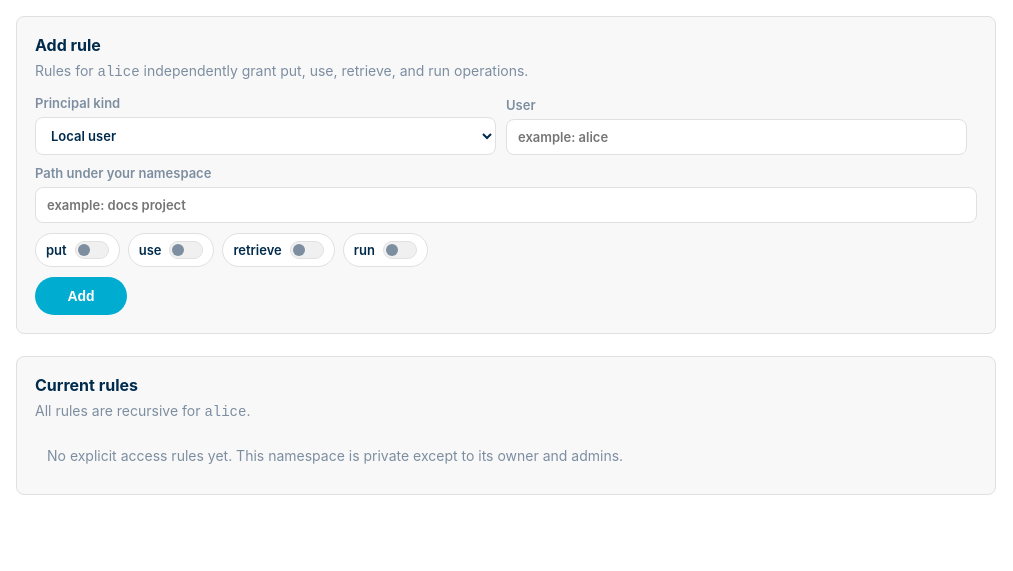
Test: AccessPanel › rejects a malformed retrieve range before submission
Expected: the text "No explicit access rules yet. This namespace is private except to its owner and admins." is shown, [47, 447, 623, 464]
Step 1. Select "Remote user" in the dropdown labelled "Principal kind" → (266, 136), box [35, 117, 496, 155]
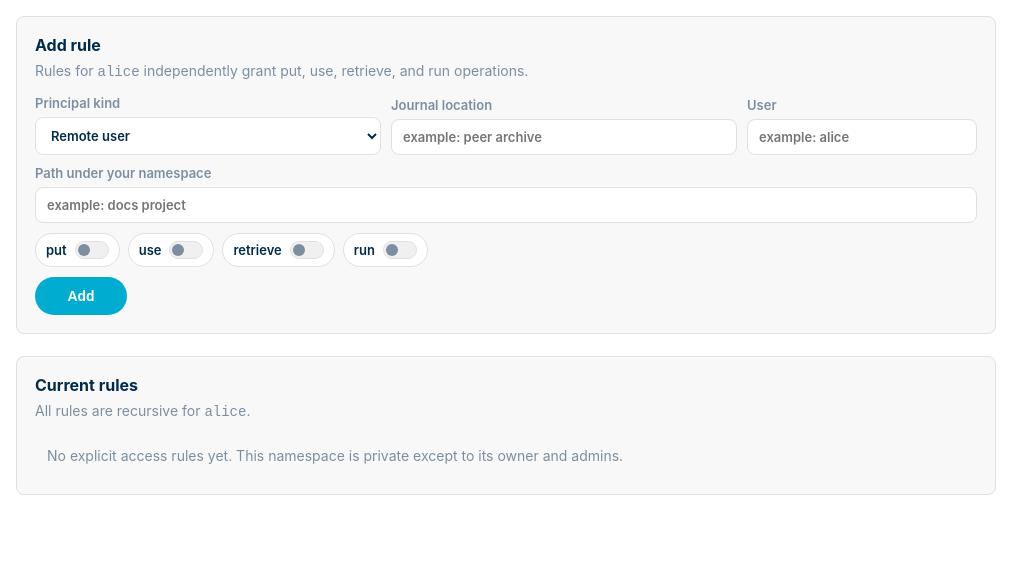
Step 2. Type "peer" into the field labelled "Journal location" → (564, 137), box [391, 119, 737, 155]
Step 3. Type "bob" into the field labelled "User" → (862, 137), box [747, 119, 977, 155]
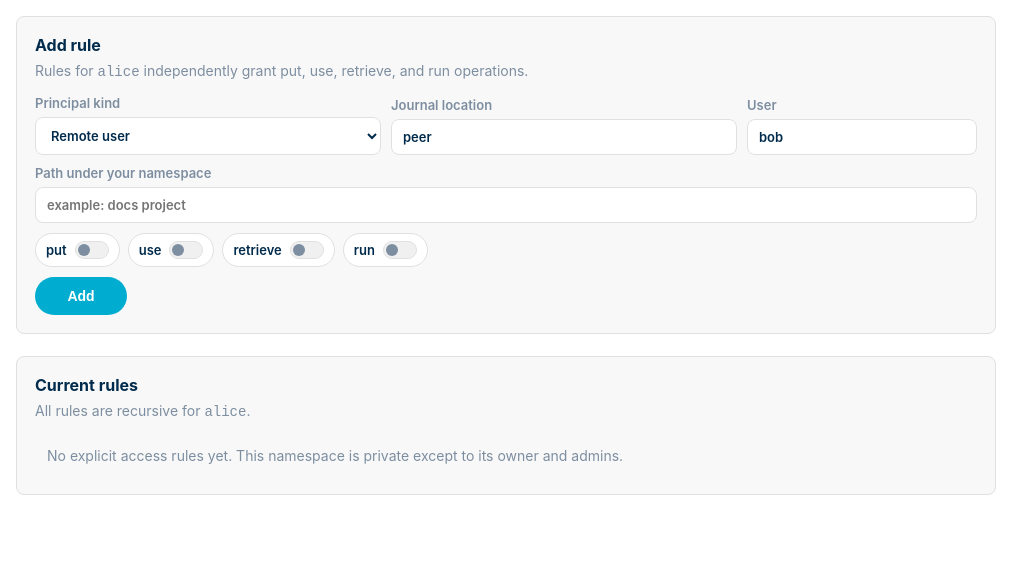
Step 4. Click the checkbox labelled "retrieve" → (279, 250), box [234, 241, 324, 259]
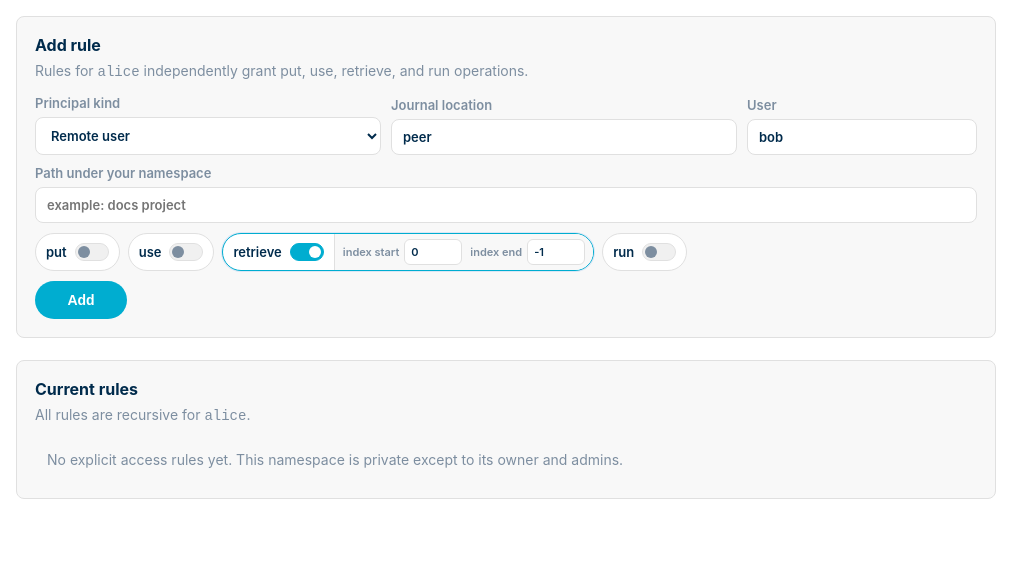
Step 5. Replace the text in the number field labelled "index start" with "-2" → (433, 252), box [404, 239, 462, 265]
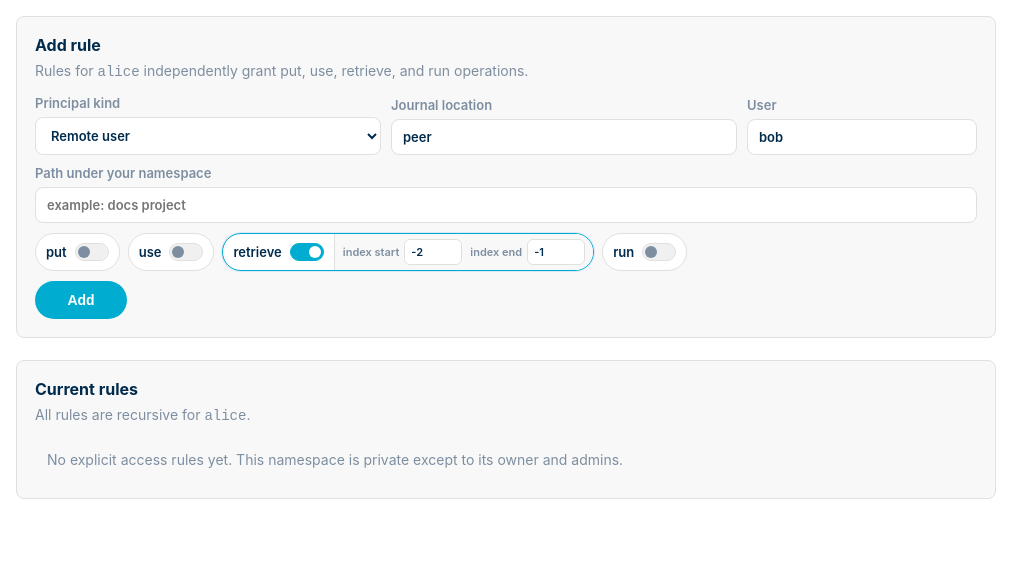
Step 6. Replace the text in the number field labelled "index end" with "1" → (556, 252), box [527, 239, 585, 265]
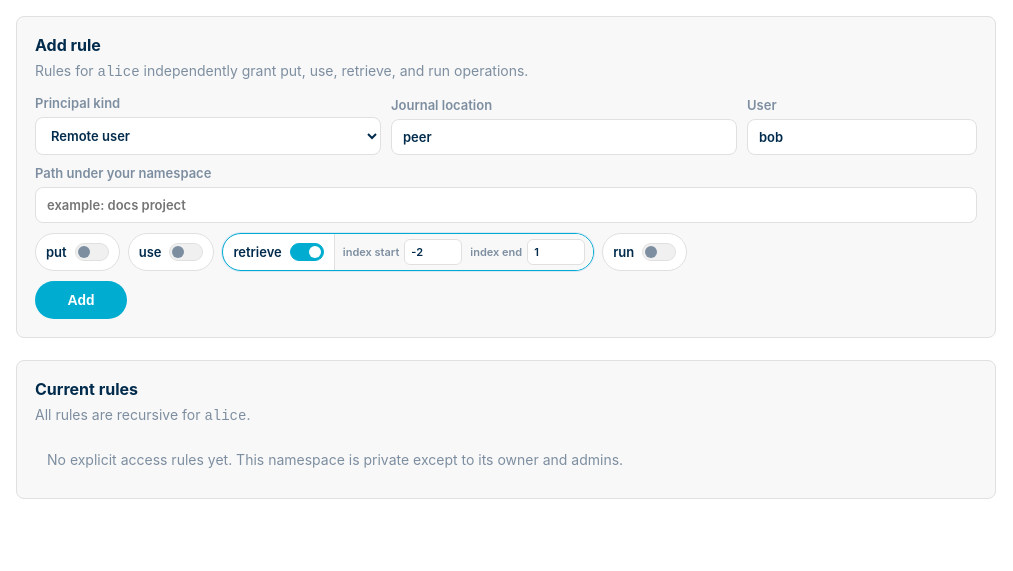
Step 7. Click the button "Add" → (81, 300), box [35, 281, 127, 319]
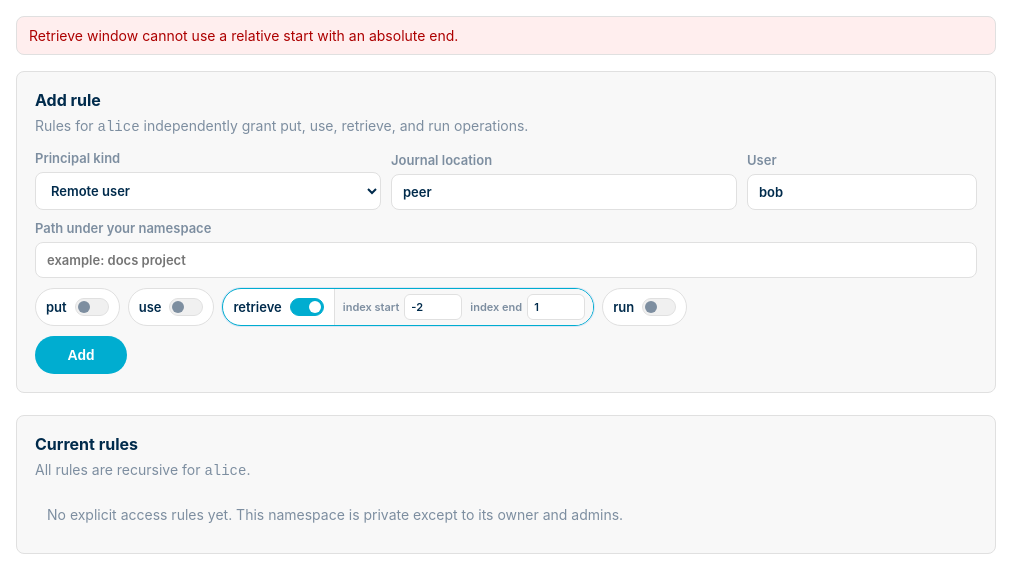
Expected: the text "Retrieve window cannot use a relative start with an absolute end." is shown, [16, 16, 996, 55]
